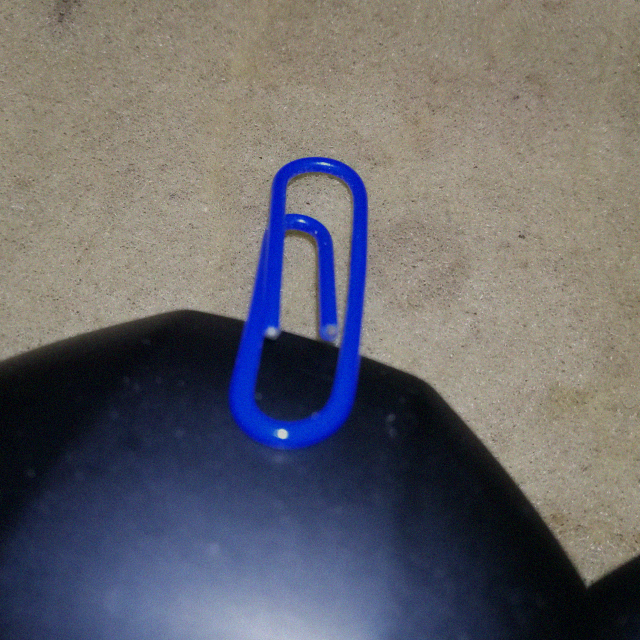pin: (217, 140, 403, 456)
